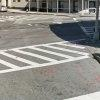Crosswalk: (2, 35, 93, 71)
